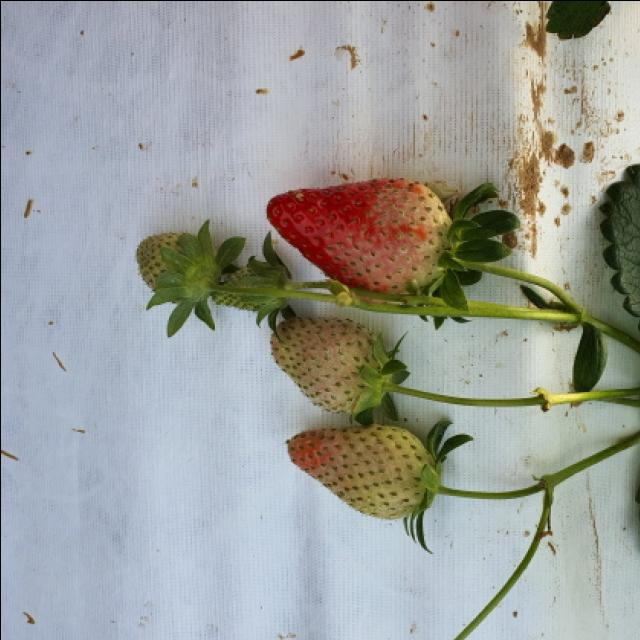Powdery Mildew Fruit: (263, 176, 454, 294)
